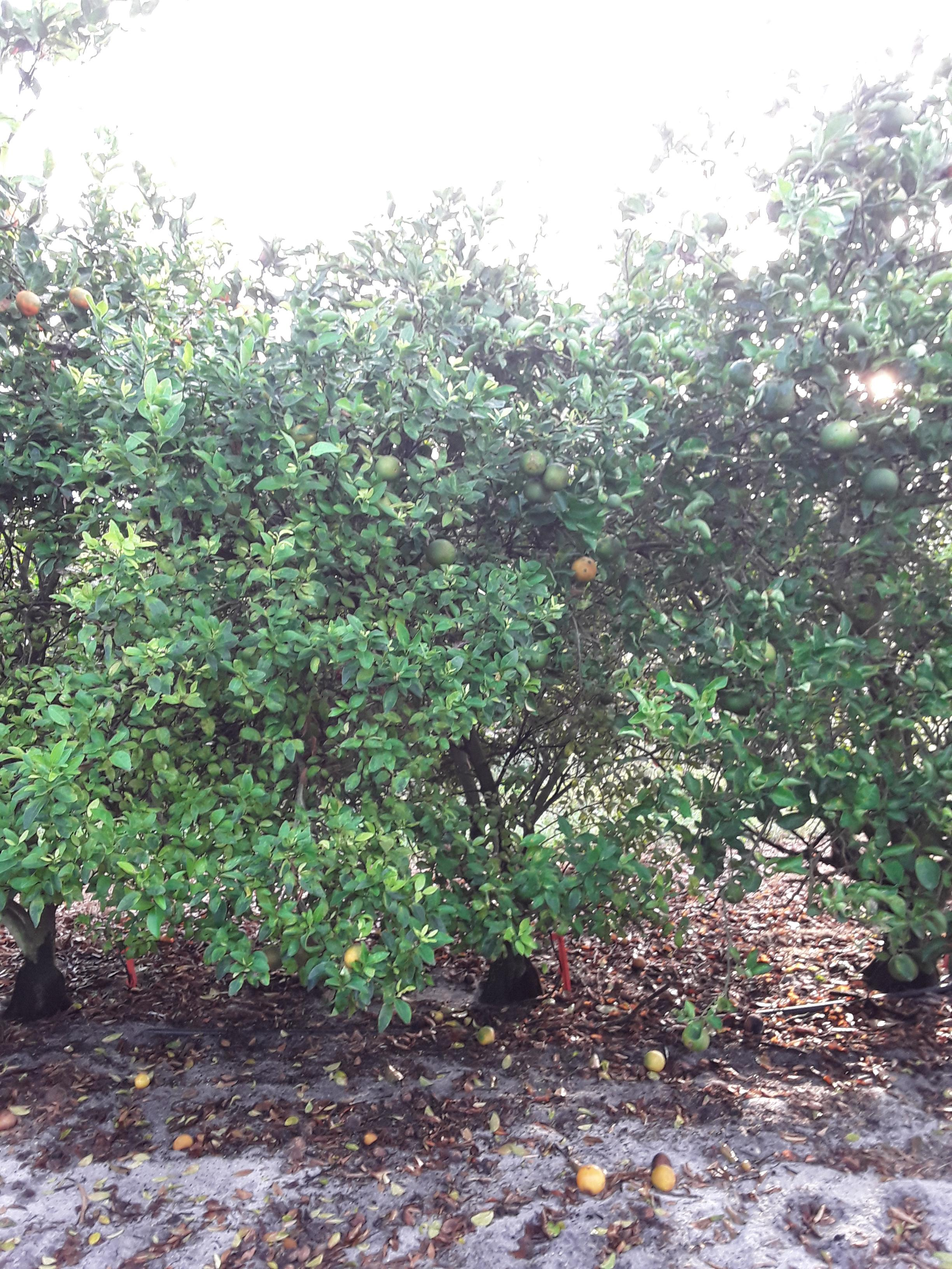fruit_on_ground: (877, 96, 919, 143), (752, 382, 804, 419), (821, 411, 862, 456), (861, 461, 901, 506), (289, 934, 324, 978), (215, 486, 254, 523), (565, 549, 601, 588), (419, 537, 461, 570), (835, 318, 875, 352), (716, 687, 764, 715), (697, 208, 735, 243), (366, 453, 408, 484), (63, 285, 100, 318), (728, 352, 761, 389), (338, 940, 378, 969), (746, 640, 781, 671), (257, 942, 288, 977), (288, 423, 325, 452), (542, 461, 574, 494), (520, 477, 553, 507), (519, 447, 551, 476), (525, 639, 554, 671), (14, 292, 43, 320), (723, 882, 748, 905)
fruit_on_tree: (576, 1162, 606, 1199), (651, 1164, 681, 1195), (166, 1129, 197, 1155), (0, 1106, 24, 1137), (643, 1049, 667, 1073), (744, 1010, 765, 1037), (475, 1026, 498, 1048), (651, 1151, 673, 1172), (130, 1070, 152, 1089), (630, 952, 649, 972)
